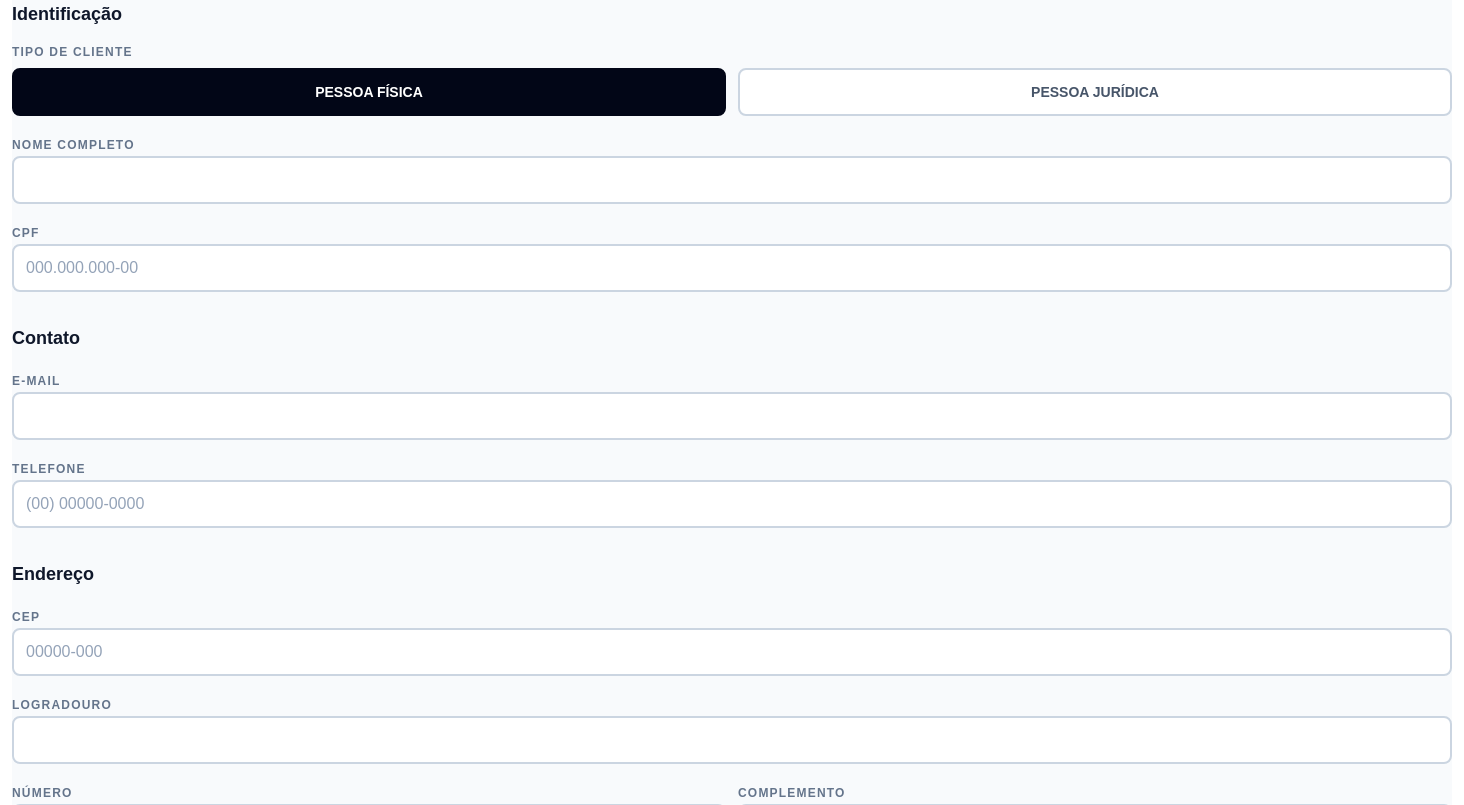
Test: CustomerForm › aplica máscara de CPF ao digitar
Type "52998224725" into the field labelled "CPF" at (732, 268), box [12,244,1452,292]
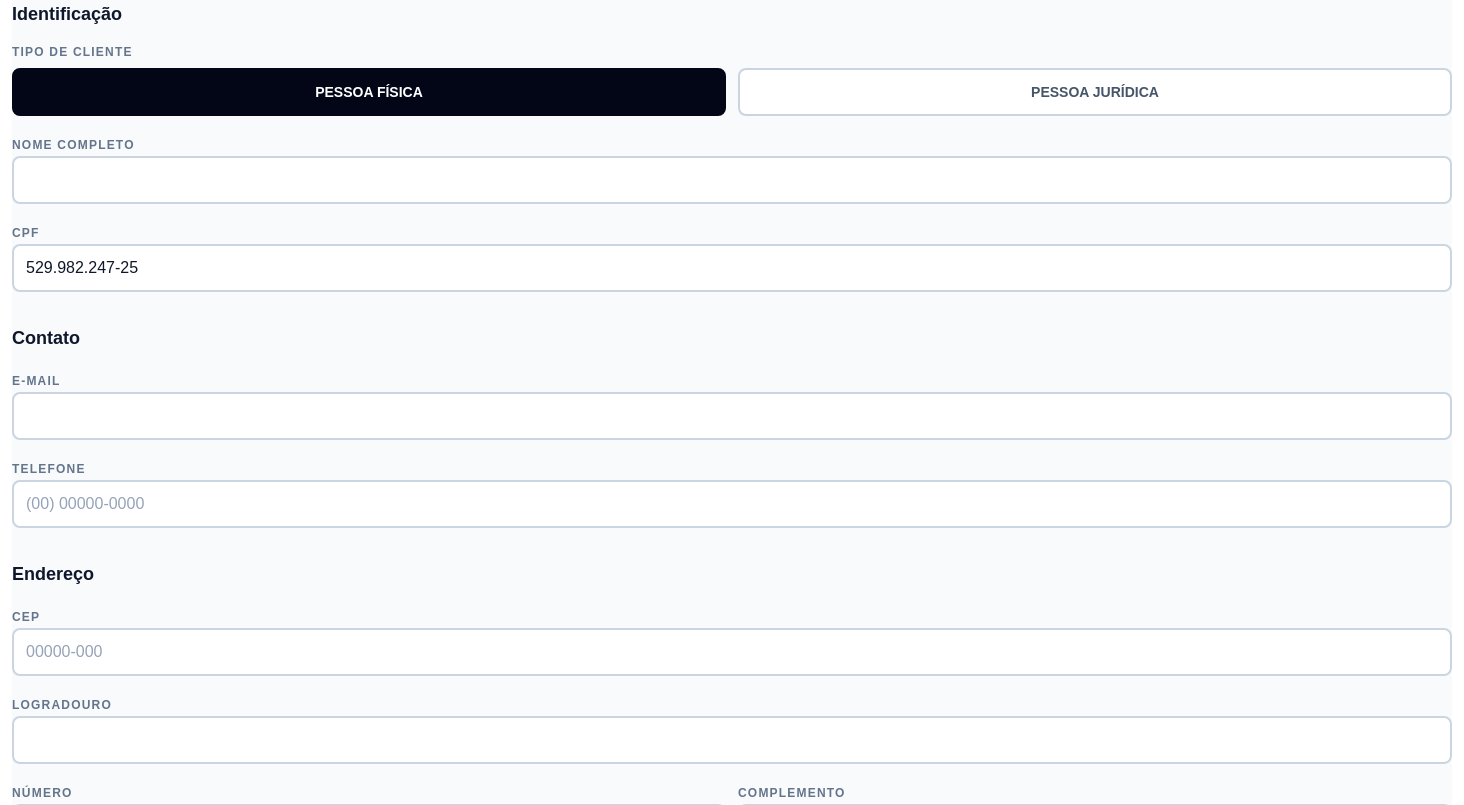
Now the field labelled "CPF" holds "529.982.247-25", box [12,244,1452,292]
